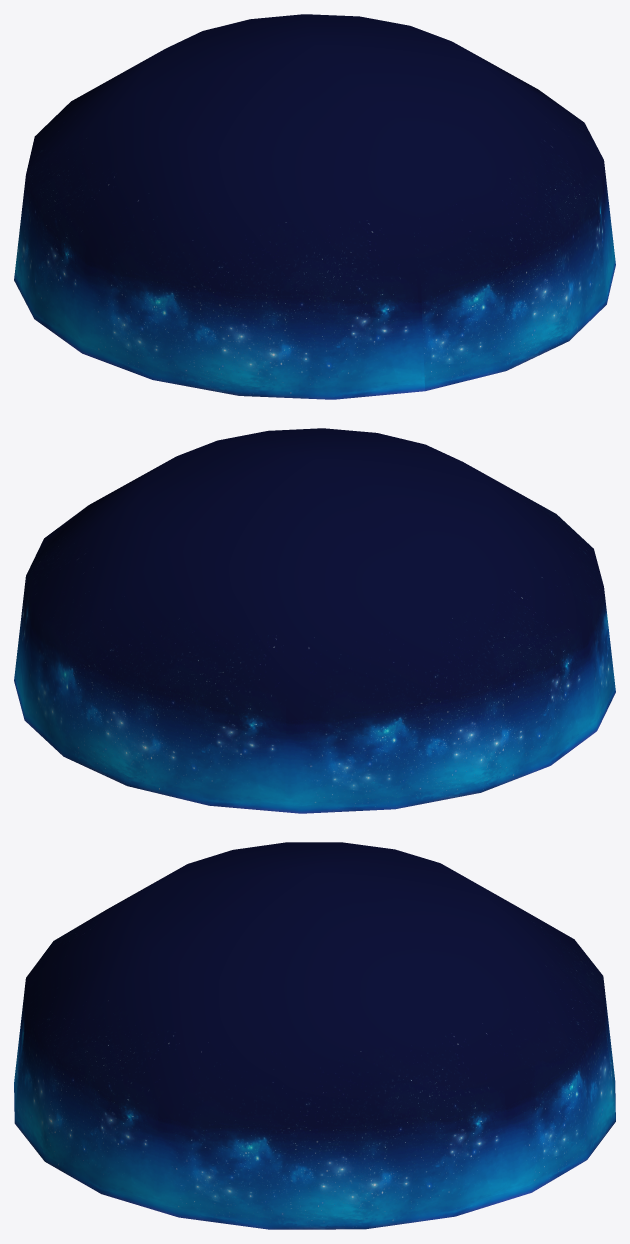
Rendered from WindMillNight.glb.
3 renders of one model, top to bottom at view 1: azimuth 30°, elevation 25°; view 2: azimuth 150°, elevation 25°; view 3: azimuth 270°, elevation 25°, orthographic.
Visible parts, largest first — view 1: Night Windmill_mesh.001; view 2: Night Windmill_mesh.001; view 3: Night Windmill_mesh.001.
Boxes of the visible parts, box(x1,y1,x2,y2) form: Night Windmill_mesh.001: box(14, 14, 615, 399); Night Windmill_mesh.001: box(14, 428, 615, 813); Night Windmill_mesh.001: box(14, 842, 615, 1229).
Size of the model in its own units: 188 by 79.02 by 188.
Materials: 8 (8 with a texture image).
